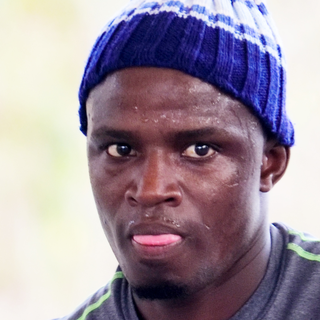eye: (179, 136, 227, 163), (102, 136, 142, 163)
